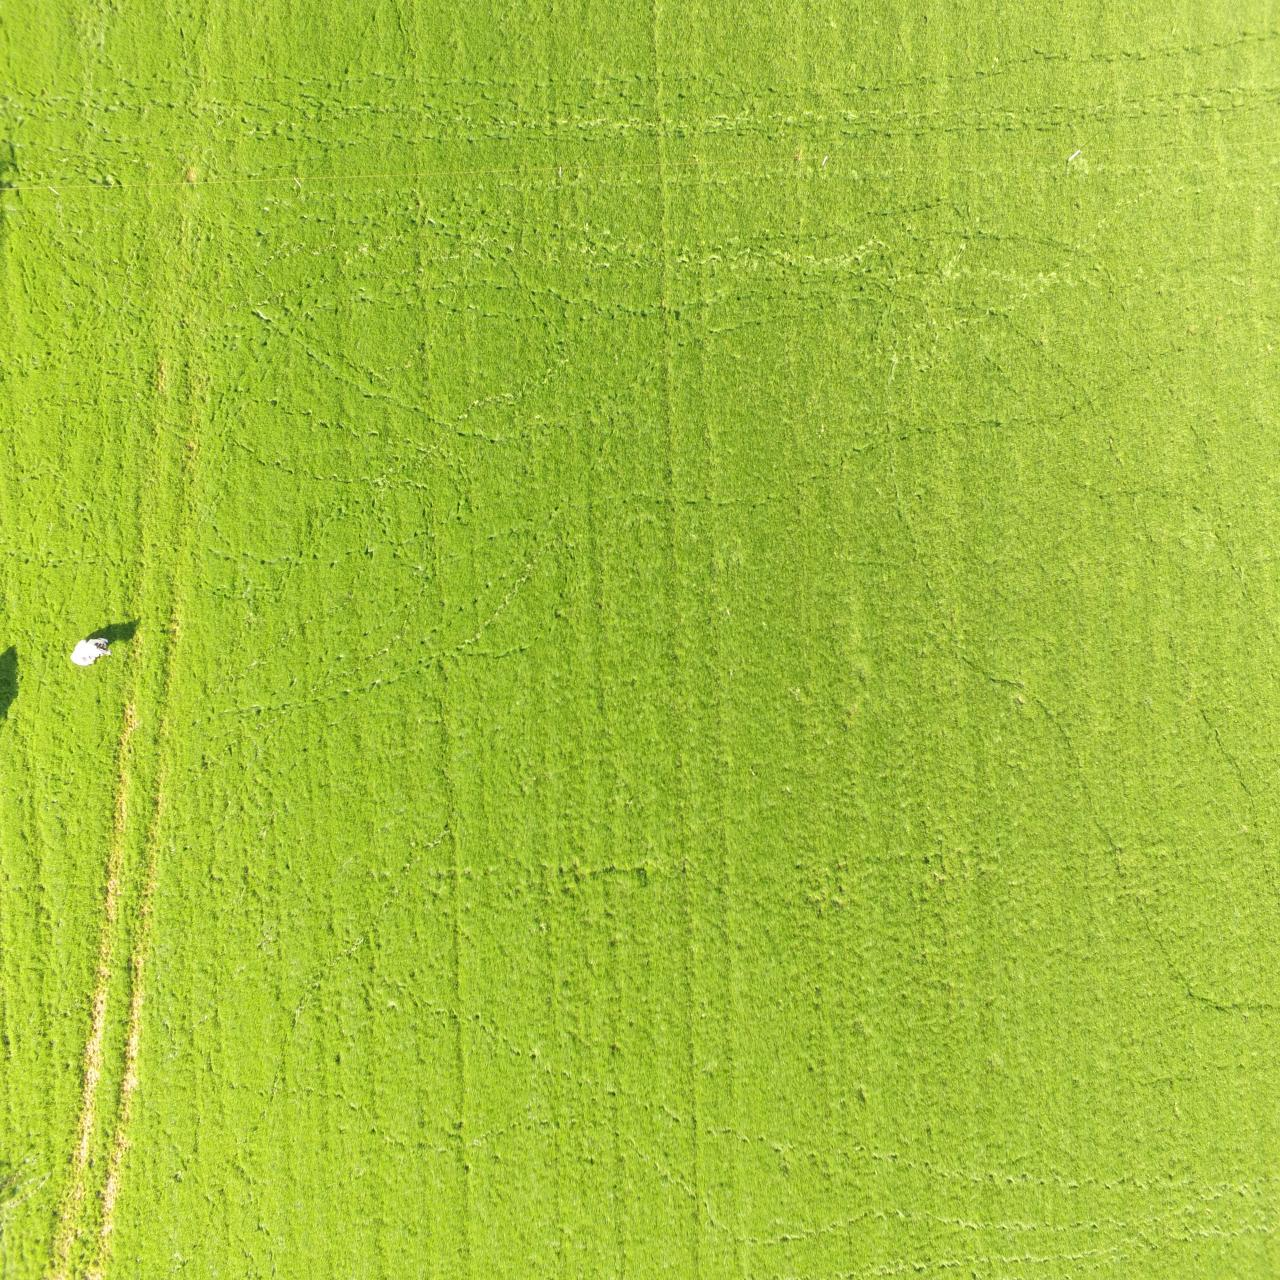cow: (68, 635, 113, 667)
